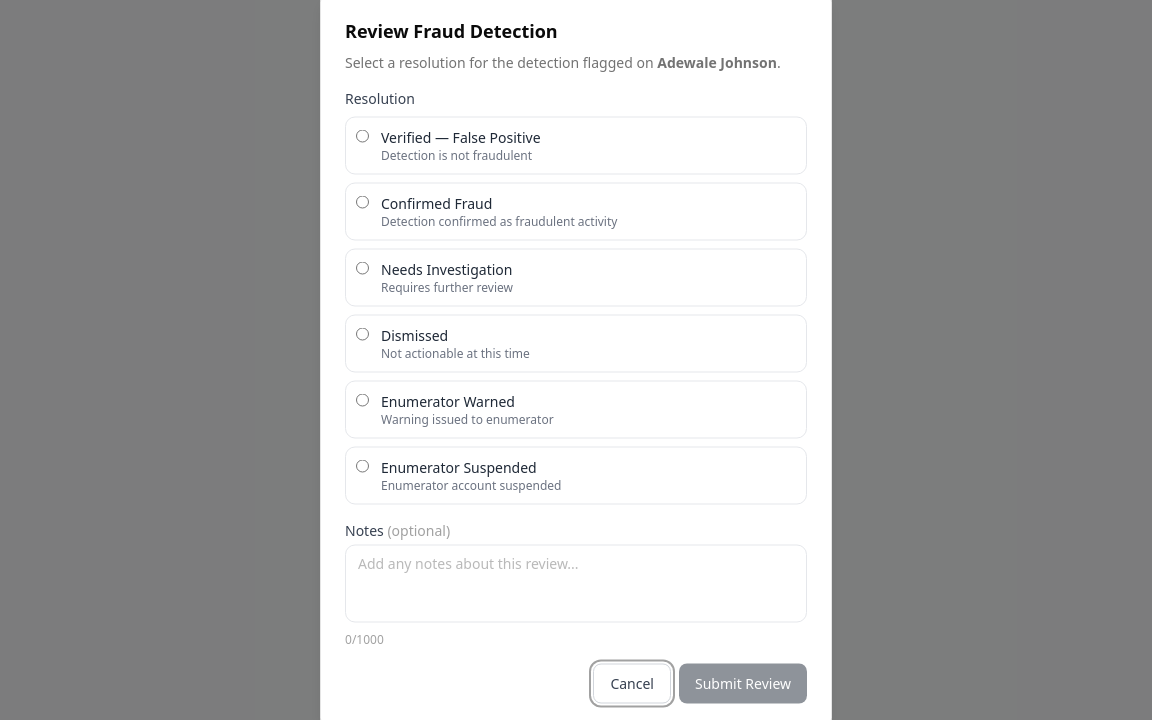
ReviewDialog › enables submit button after selecting a resolution
Click the radio button showing "confirmed_fraud".
click(362, 202)  # box [356,196,369,208]
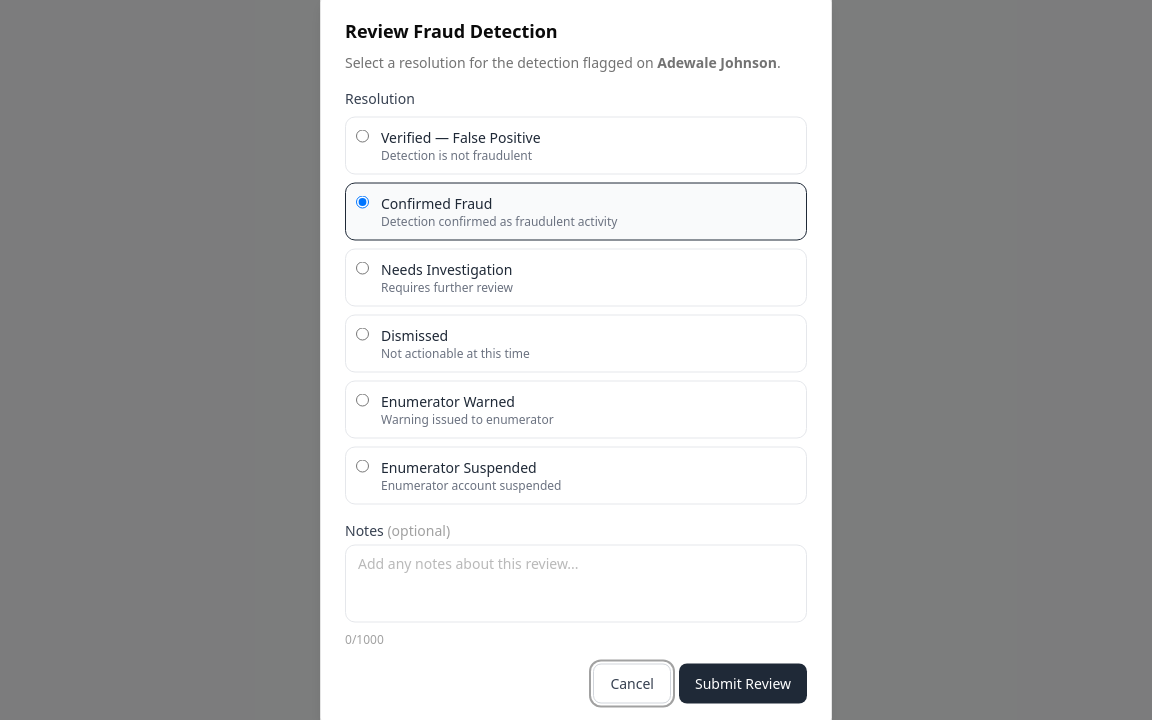
Expected: the button "Submit Review" is enabled, [679,664,807,704]
